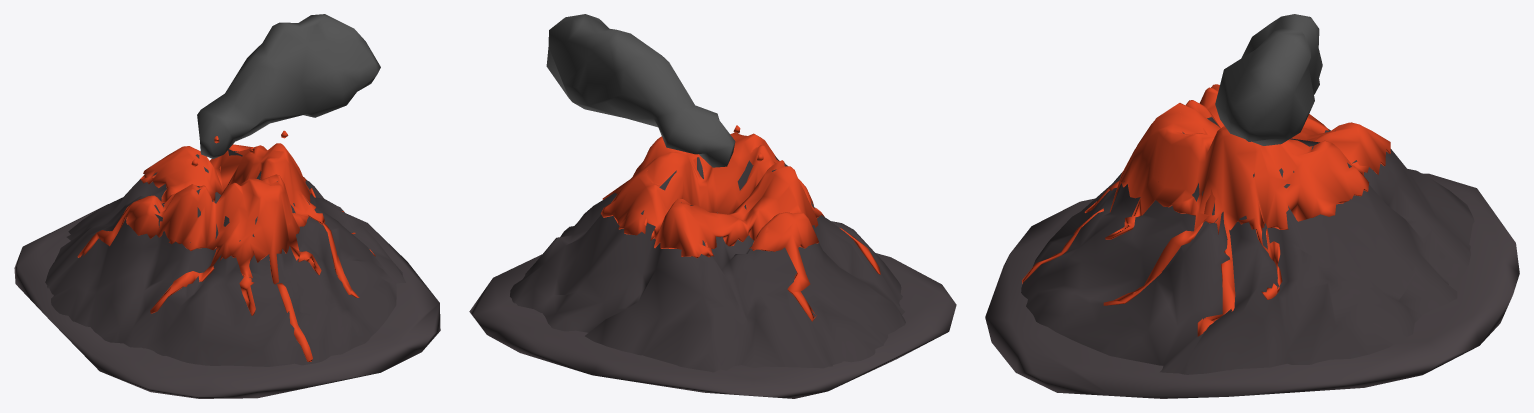
File: vulcao.glb
The picture shows the model from 3 angles, left to right: view 1: azimuth 30°, elevation 25°; view 2: azimuth 150°, elevation 25°; view 3: azimuth 270°, elevation 25°; orthographic projection. The views are drawn at different scales.
Visible parts, largest first — view 1: Landscape.001, Landscape.002, Cube.077, Mball.046; view 2: Landscape.001, Landscape.002, Cube.077, Mball.046; view 3: Landscape.001, Cube.077, Landscape.002, Mball.046.
Boxes of the visible parts, x1=… form: Landscape.001: x1=45, y1=149, x2=405, y2=366; Landscape.002: x1=77, y1=143, x2=375, y2=361; Cube.077: x1=14, y1=208, x2=440, y2=398; Mball.046: x1=197, y1=14, x2=380, y2=158; Landscape.001: x1=510, y1=156, x2=905, y2=372; Landscape.002: x1=601, y1=132, x2=880, y2=321; Cube.077: x1=469, y1=253, x2=956, y2=398; Mball.046: x1=546, y1=14, x2=735, y2=167; Landscape.001: x1=1021, y1=116, x2=1474, y2=374; Cube.077: x1=985, y1=173, x2=1519, y2=398; Landscape.002: x1=1022, y1=84, x2=1390, y2=336; Mball.046: x1=1215, y1=14, x2=1322, y2=145.
Size of the model in its own units: 2.19 by 1.63 by 2.28.
